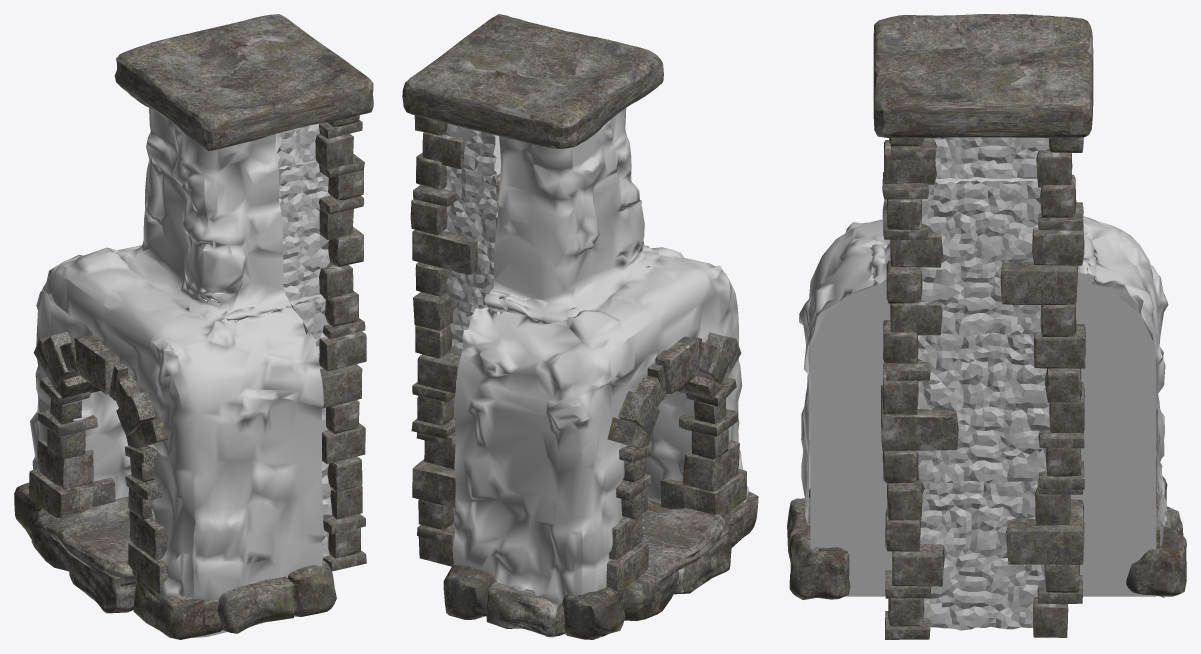
Rendered from SM_Fireplace_02.fbx.
3 renders of one model, left to right at view 1: azimuth 30°, elevation 25°; view 2: azimuth 150°, elevation 25°; view 3: azimuth 270°, elevation 25°, orthographic. The views are drawn at different scales.
Visible parts, largest first — view 1: SM_Fireplace_02_LOD0; view 2: SM_Fireplace_02_LOD0; view 3: SM_Fireplace_02_LOD0.
Part boxes in pixels (x1,y1,x2,y2): SM_Fireplace_02_LOD0: (14, 14, 373, 639); SM_Fireplace_02_LOD0: (402, 14, 758, 639); SM_Fireplace_02_LOD0: (787, 14, 1186, 639).
Size of the model in its own units: 190 by 231 by 351.
